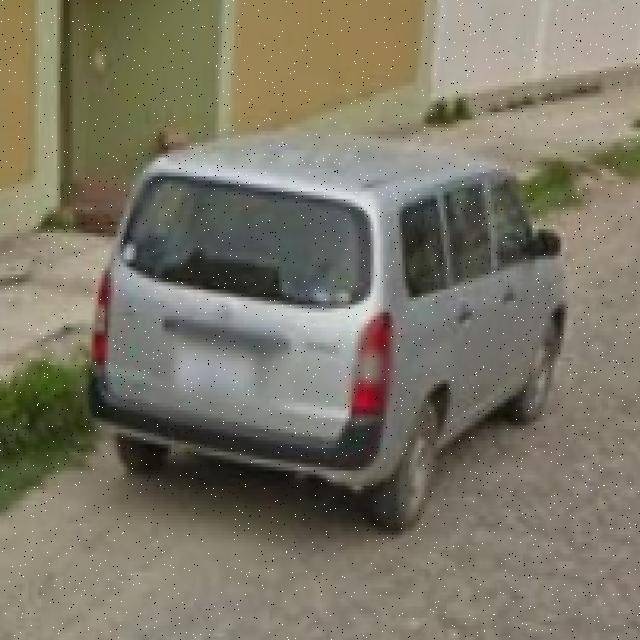car: (60, 113, 592, 547)
